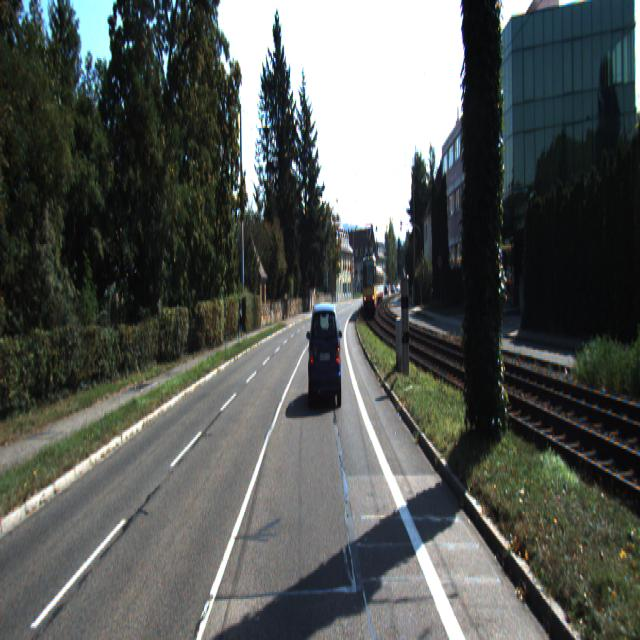Car: (307, 298, 342, 409), (362, 252, 376, 316)
